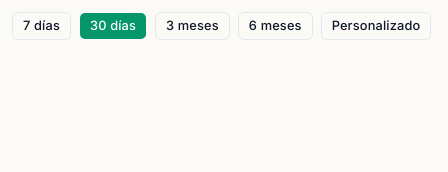
Test case: DateRangeFilter › shows custom date inputs when Personalizado is selected
The width and height of the screenshot is (448, 172).
Click the button "Personalizado". click: point(376, 26)
box: [321,12,431,40]
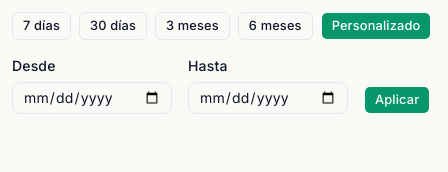
Expected: the date field labelled "Desde" is shown, [12,82,172,114]
Expected: the date field labelled "Hasta" is shown, [188,82,348,114]
